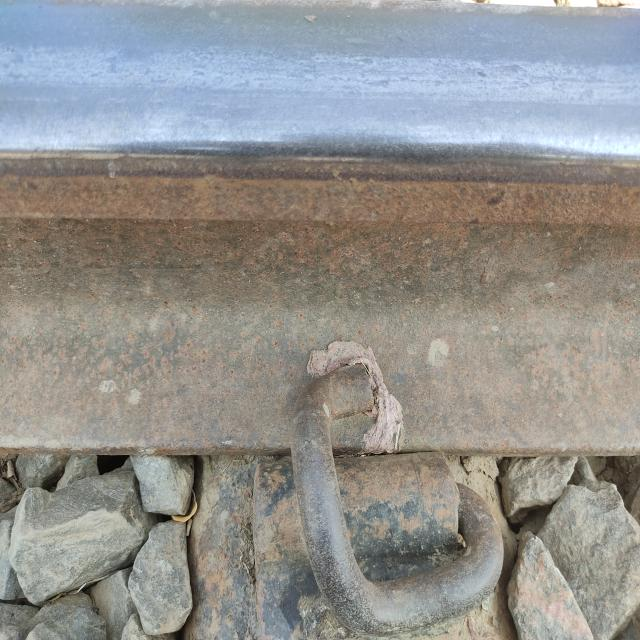non-defective: (236, 247, 554, 632)
